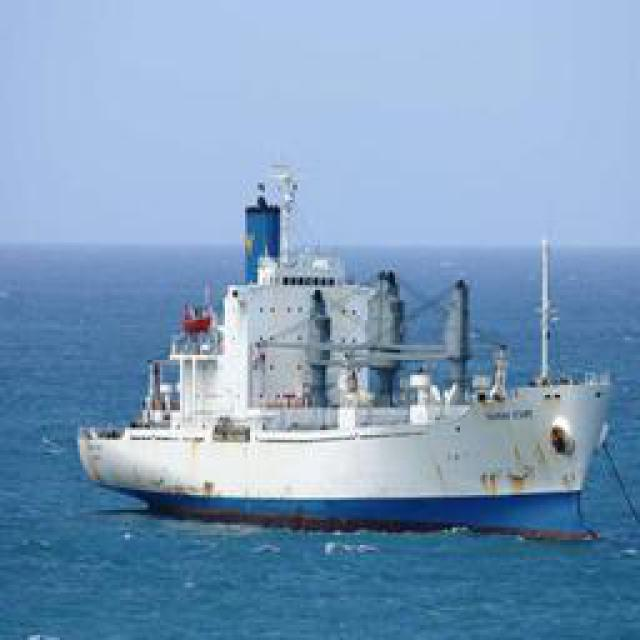Ship: (77, 145, 620, 530)
